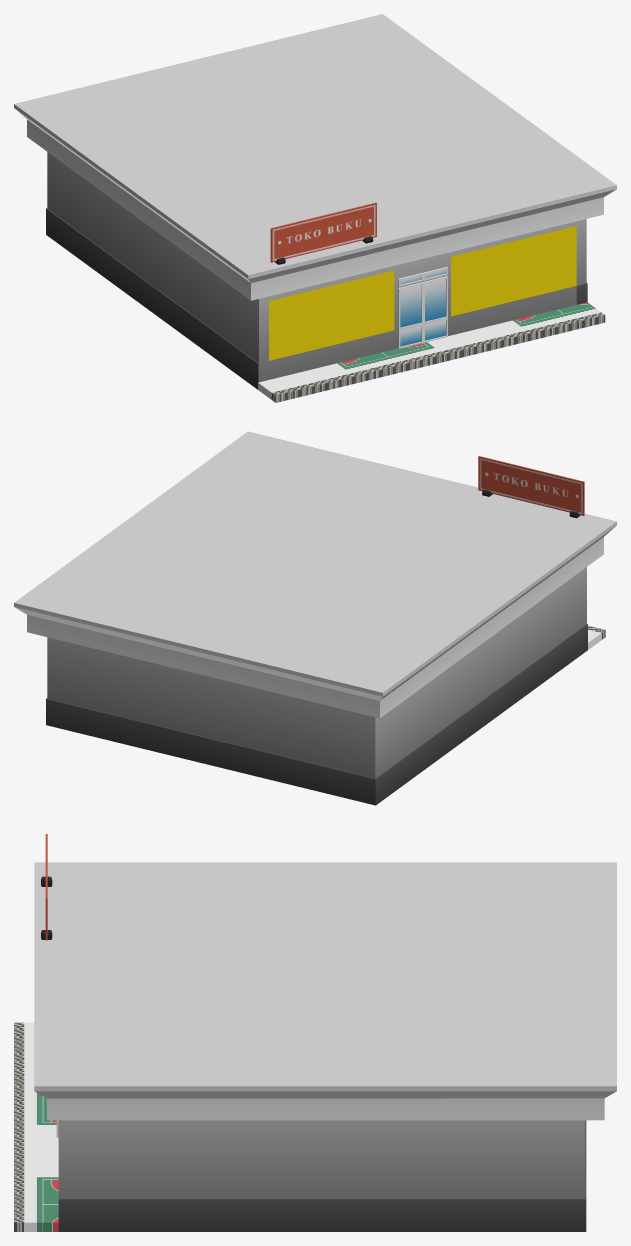
File: TokoBuku.fbx
The picture shows the model from 3 angles, top to bottom: view 1: azimuth 30°, elevation 25°; view 2: azimuth 150°, elevation 25°; view 3: azimuth 270°, elevation 25°; orthographic projection. The views are drawn at different scales.
Parts seen in each view (by area): view 1: TokoBukuBody2_LOD0; view 2: TokoBukuBody2_LOD0; view 3: TokoBukuBody2_LOD0.
Boxes of the visible parts, x1=… form: TokoBukuBody2_LOD0: x1=14, y1=14, x2=616, y2=402; TokoBukuBody2_LOD0: x1=14, y1=431, x2=616, y2=805; TokoBukuBody2_LOD0: x1=14, y1=834, x2=616, y2=1231.
Size of what is drawn, in the model's own units: 1591 by 671 by 1809.
